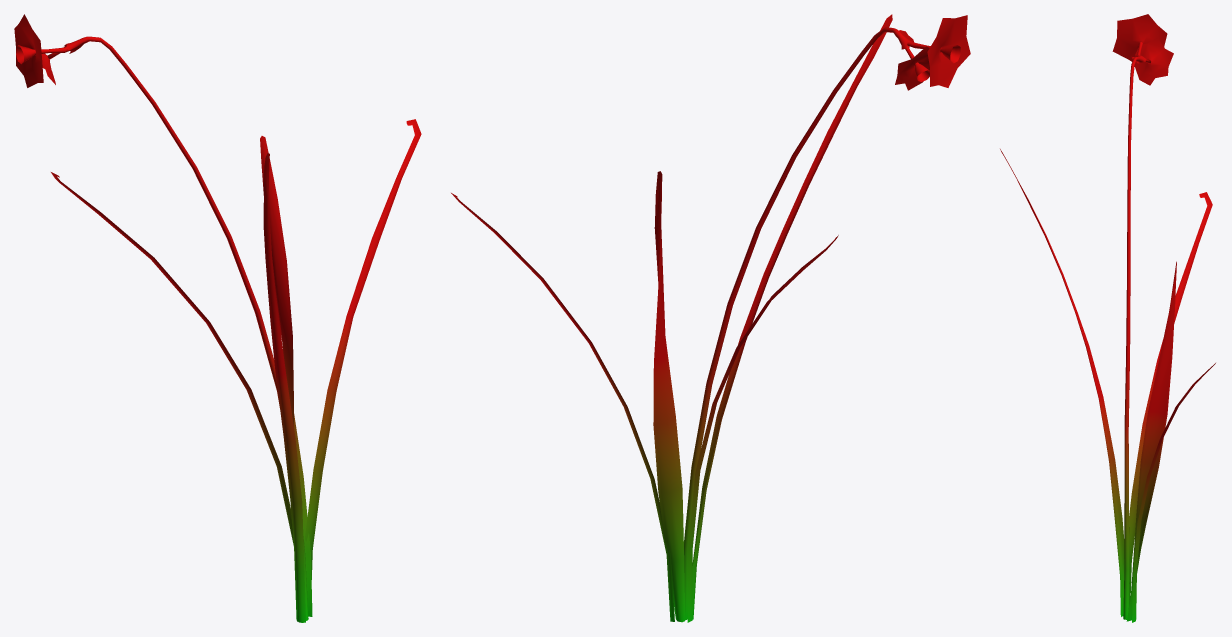
File: Rush Daffodil_LOD1_Var8_wftgfjaia.fbx
3 views of the same model, side by side, from view 1: azimuth 30°, elevation 25°; view 2: azimuth 150°, elevation 25°; view 3: azimuth 270°, elevation 25° (orthographic). The views are drawn at different scales.
Parts seen in each view (by area): view 1: _puu0_var8_LOD1; view 2: _puu0_var8_LOD1; view 3: _puu0_var8_LOD1.
Boxes of the visible parts, <box> form: _puu0_var8_LOD1: <box>14,14,421,622</box>; _puu0_var8_LOD1: <box>451,14,970,622</box>; _puu0_var8_LOD1: <box>1000,14,1215,622</box>.
Bounding box in the file's own units: 22.89 × 32.53 × 12.71.
